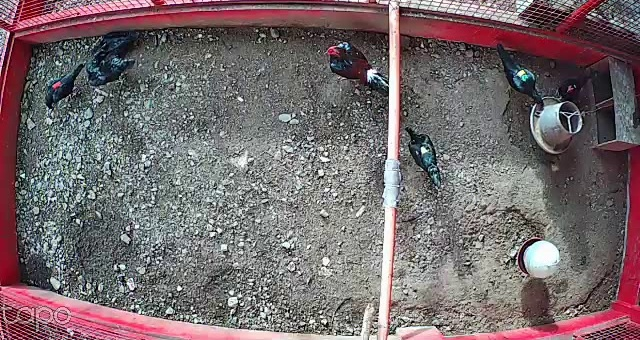Chicken: (491, 39, 549, 117), (80, 49, 146, 101), (403, 125, 444, 191), (44, 62, 88, 112), (86, 23, 144, 53), (549, 71, 599, 101)
Rooster: (324, 36, 389, 99)
Saddle_Color_Red: (52, 79, 62, 92)
Saddle_Color_Yellow: (414, 144, 431, 155)
Saddle_Color_YellowGreen: (516, 70, 530, 82)
